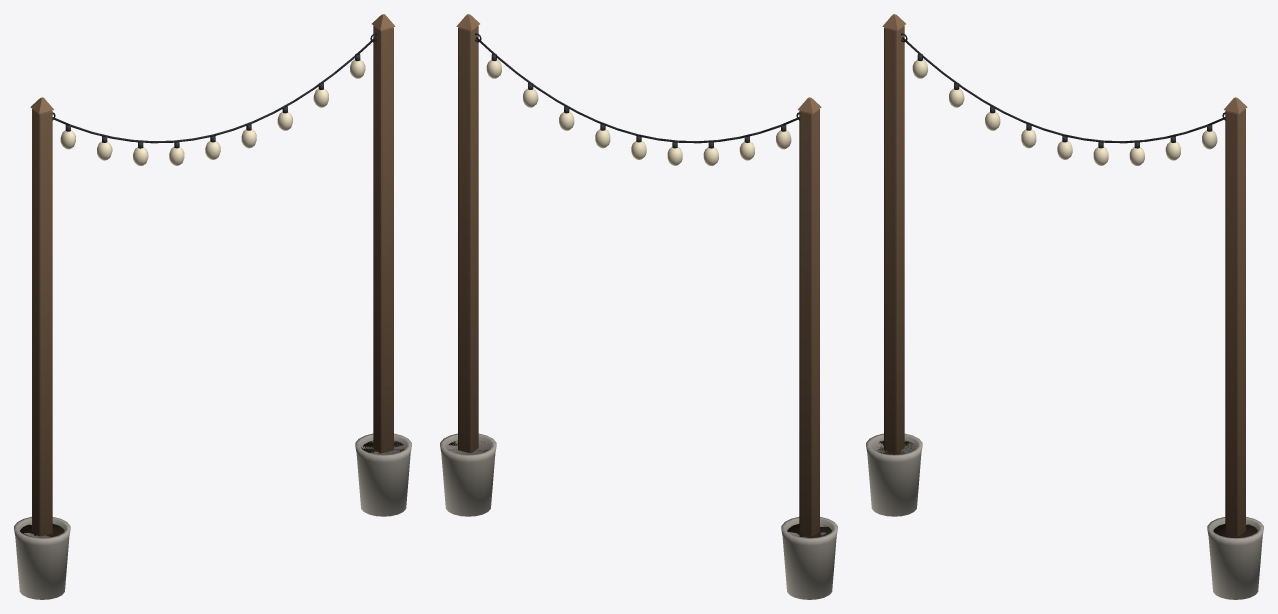
File: stringLights.glb
3 renders of one model, left to right at view 1: azimuth 30°, elevation 25°; view 2: azimuth 150°, elevation 25°; view 3: azimuth 330°, elevation 25°, orthographic.
Parts seen in each view (by area): view 1: posts, string; view 2: posts, string; view 3: posts, string.
Boxes of the visible parts, bbox=[...] form: posts: bbox=[14, 14, 411, 599]; string: bbox=[52, 37, 376, 165]; posts: bbox=[440, 14, 837, 599]; string: bbox=[475, 37, 799, 165]; posts: bbox=[866, 14, 1263, 599]; string: bbox=[901, 37, 1225, 165].
Size of the model in its own units: 1.97 by 2.37 by 0.2462.
